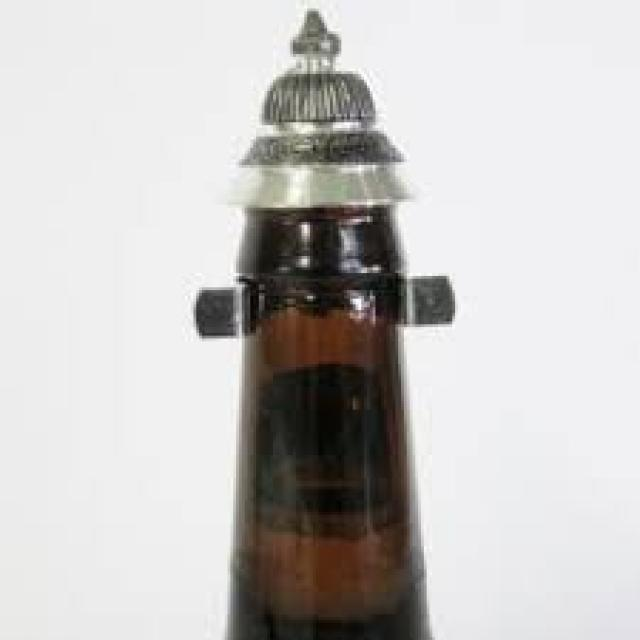glass: (228, 202, 430, 637)
metal: (228, 6, 413, 199)
